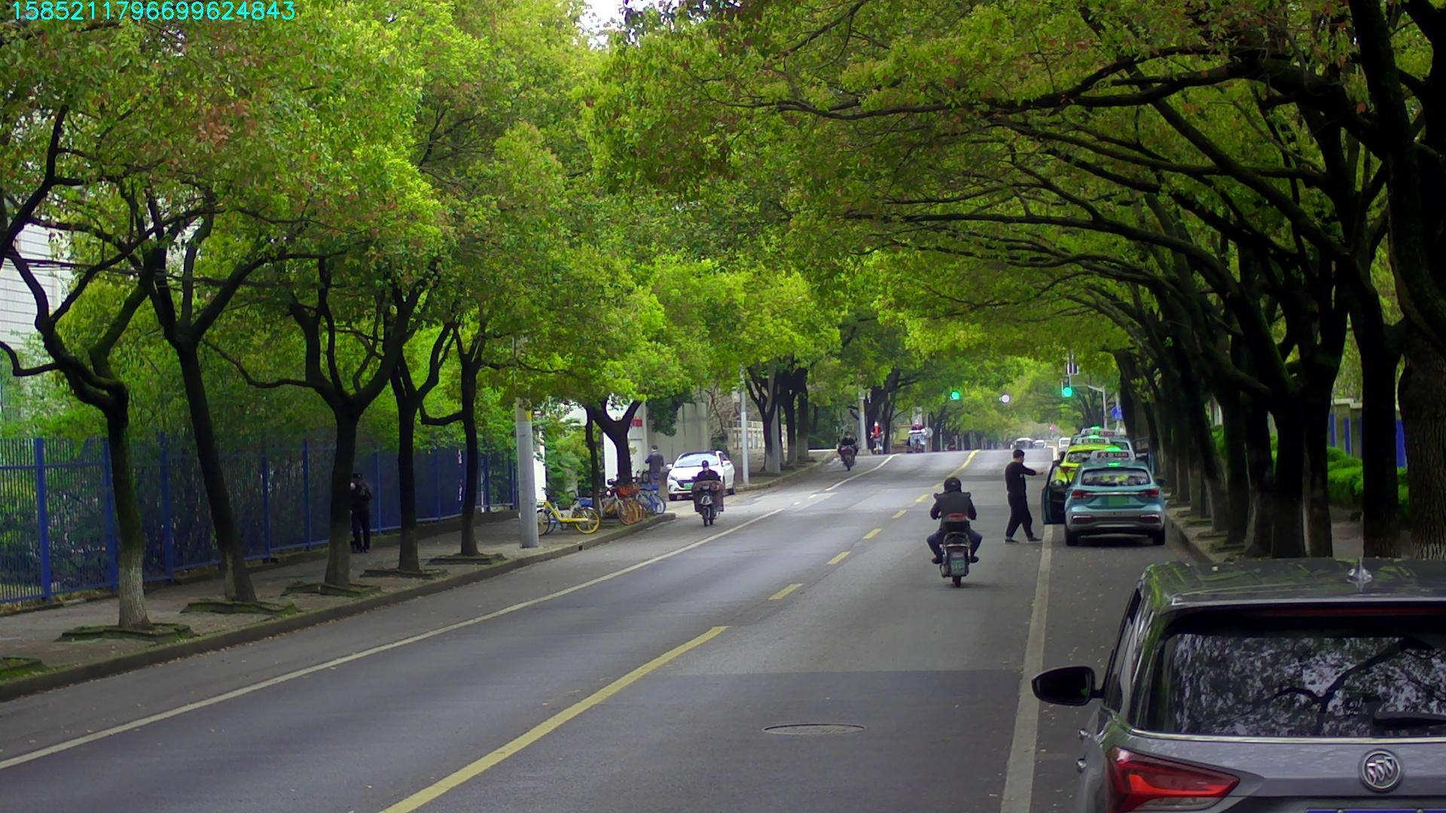green: (1060, 375, 1070, 397), (949, 390, 959, 399)
